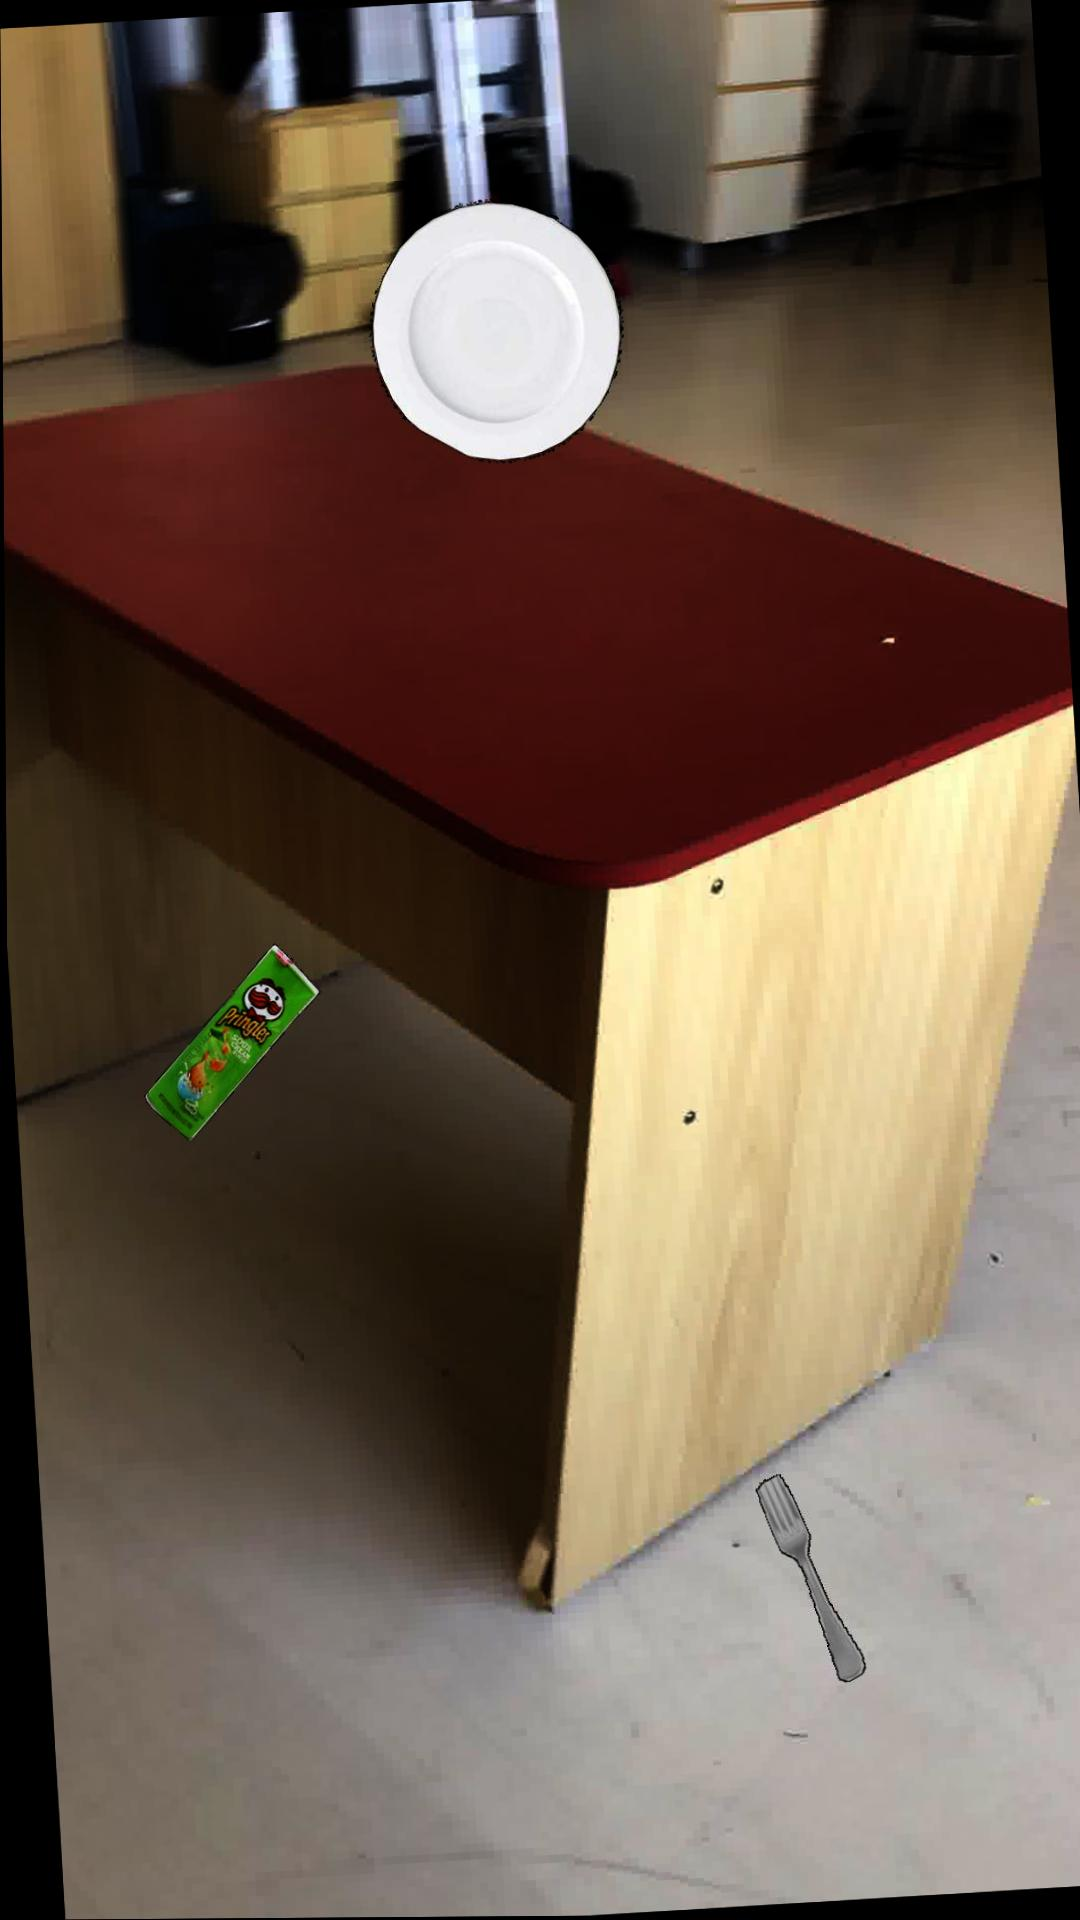fork: (753, 1473, 863, 1680)
plate: (369, 198, 623, 459)
pringles: (142, 941, 319, 1138)
